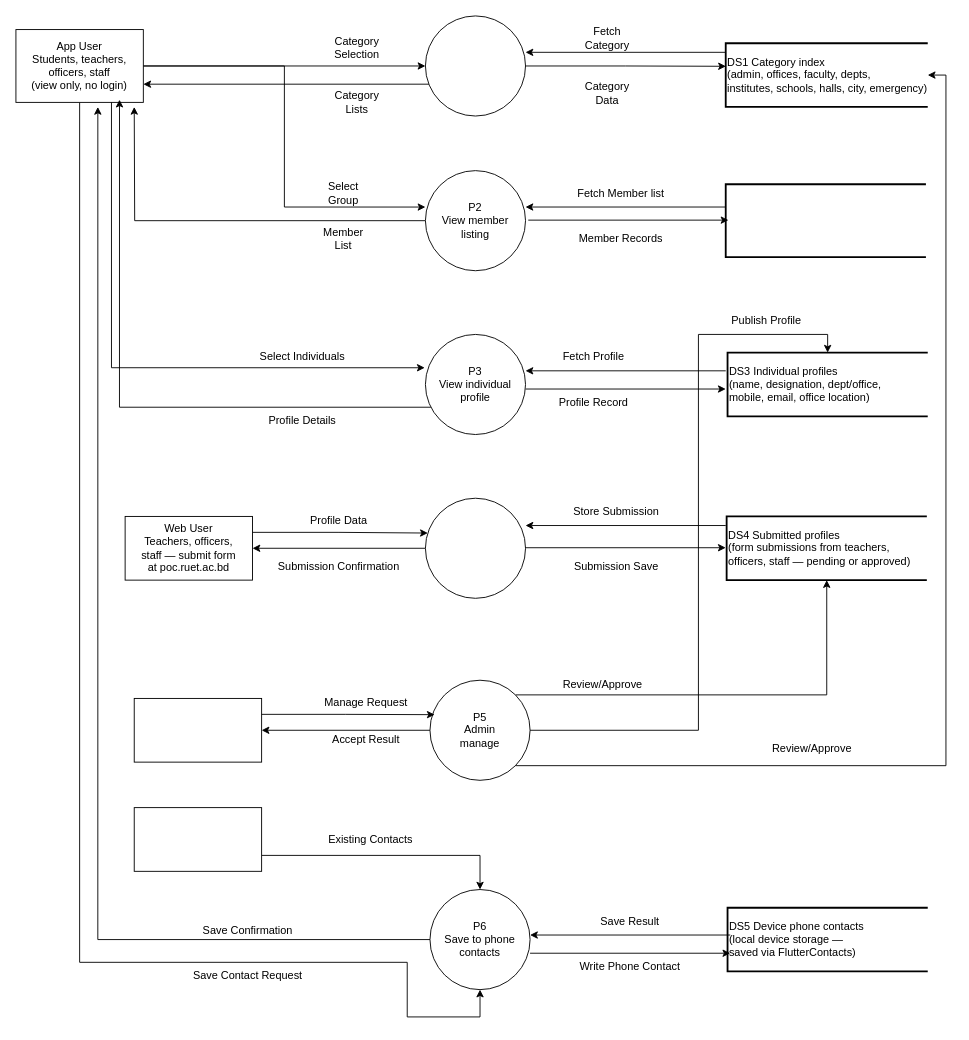
Some shapes in this 969 by 1040 pixel diagram are drawn without their labels. The shapes that lost their labels are listed below. From the top down, each one's box as (x1, y1, x2, y2) in pixels, then its label:
(425, 15, 526, 116): P1 Browse categories
(724, 183, 926, 258): DS2 Member listing (Individual Group — group members per category)
(425, 497, 526, 598): P4 Submit profile form (website)
(133, 698, 262, 762): Admin ICT Cell, RUET (website management)
(133, 807, 262, 871): Device Phone Contacts
